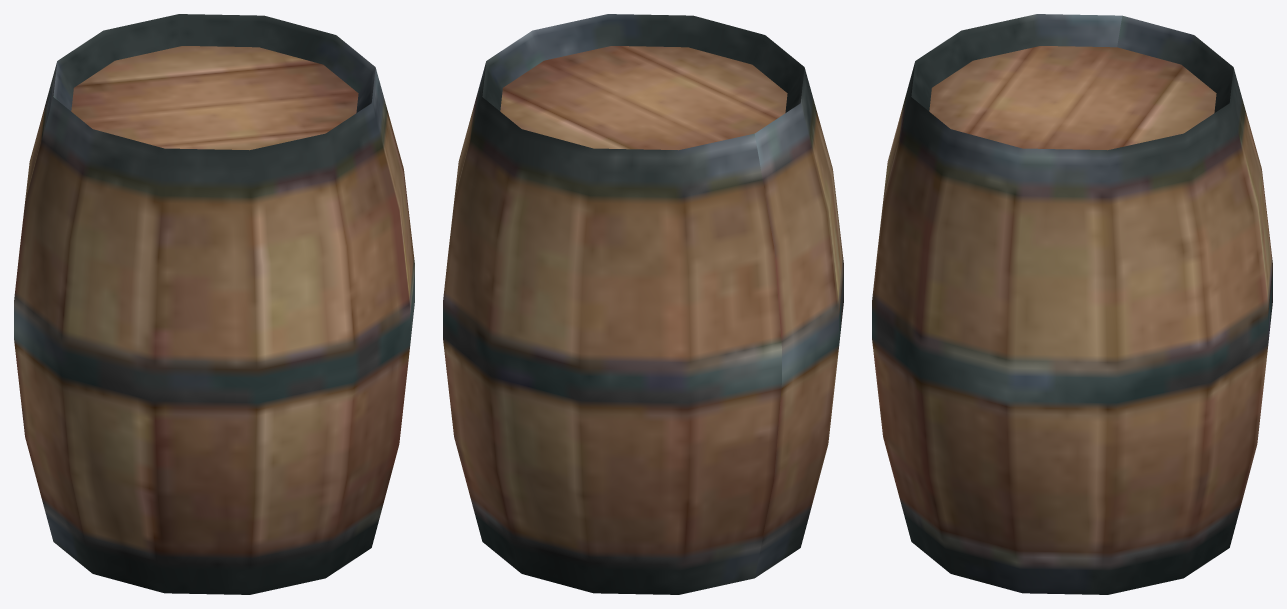
Rendered from com_barrel_01.fbx.
3 views of the same model, side by side, from view 1: azimuth 30°, elevation 25°; view 2: azimuth 150°, elevation 25°; view 3: azimuth 270°, elevation 25° (orthographic).
Parts seen in each view (by area): view 1: com_barrel_01; view 2: com_barrel_01; view 3: com_barrel_01.
Part boxes in pixels (left/top/right/bottom): com_barrel_01: left=14, top=14, right=414, bottom=594; com_barrel_01: left=443, top=14, right=843, bottom=594; com_barrel_01: left=872, top=14, right=1272, bottom=594.
Bounding box in the file's own units: 1.03 × 1.26 × 1.03.
Materials: 1 (1 with a texture image).
